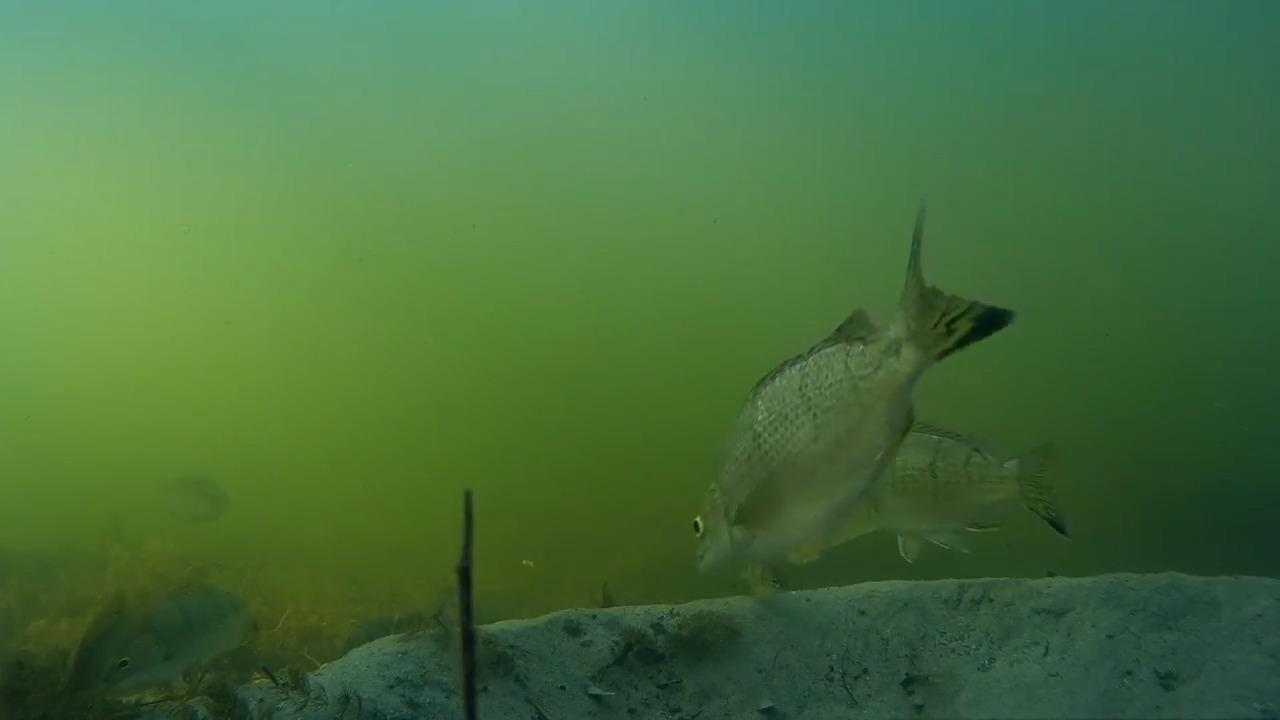Tilapia: (690, 279, 1048, 572), (791, 408, 1096, 572), (81, 574, 263, 708), (147, 450, 238, 534)
